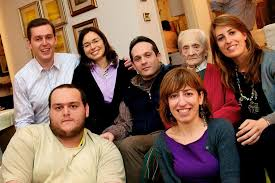person: (18, 83, 121, 175), (142, 76, 239, 172), (206, 17, 273, 121), (15, 10, 79, 107), (71, 26, 133, 107), (118, 36, 178, 114)
